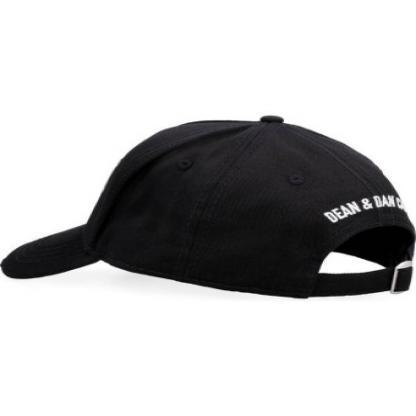cap: (1, 114, 415, 304)
